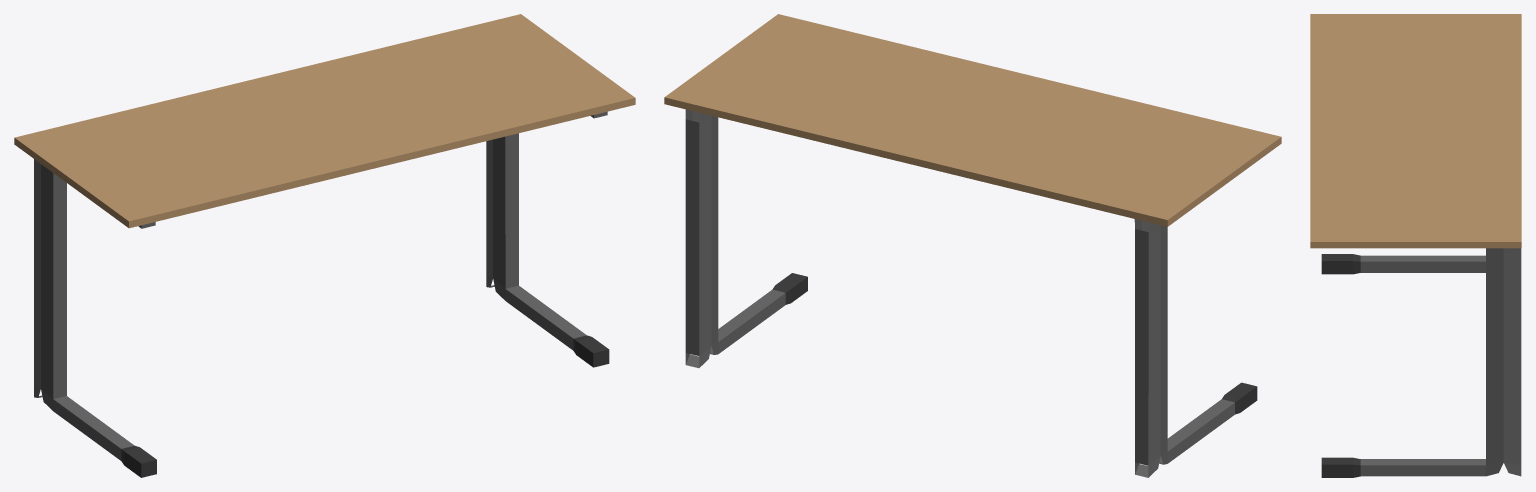
The model's file is stol_9.fbx.
3 views of the same model, side by side, from view 1: azimuth 30°, elevation 25°; view 2: azimuth 150°, elevation 25°; view 3: azimuth 270°, elevation 25° (orthographic). The views are drawn at different scales.
Visible parts, largest first — view 1: stol_3.002; view 2: stol_3.002; view 3: stol_3.002.
Part boxes in pixels (left/top/right/bottom): stol_3.002: left=14, top=14, right=635, bottom=477; stol_3.002: left=664, top=14, right=1281, bottom=477; stol_3.002: left=1310, top=14, right=1521, bottom=477.
Bounding box in the file's own units: 208 × 104 × 81.47.
